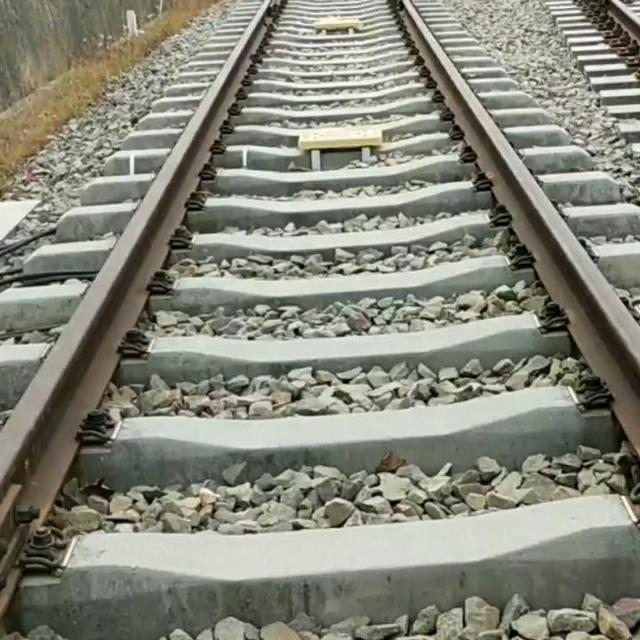rail: (1, 1, 297, 640), (384, 1, 640, 577), (566, 1, 640, 100)
